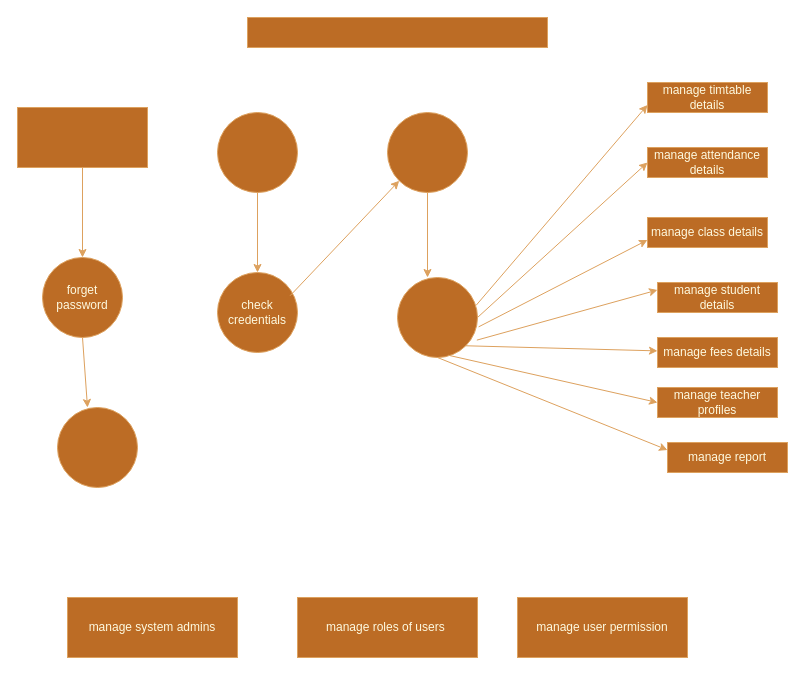
Some shapes in this 805 by 675 pixel diagram are drawn without their labels. The shapes that lost their labels are listed below. From the top down, each one's centre as x and y in pixels, then its label:
At point (397, 32): "student information system".
At point (82, 137): "admin".
At point (257, 152): "login to system".
At point (427, 152): "check roles of access".
At point (437, 317): "manage modules".
At point (97, 447): "send email to user".
